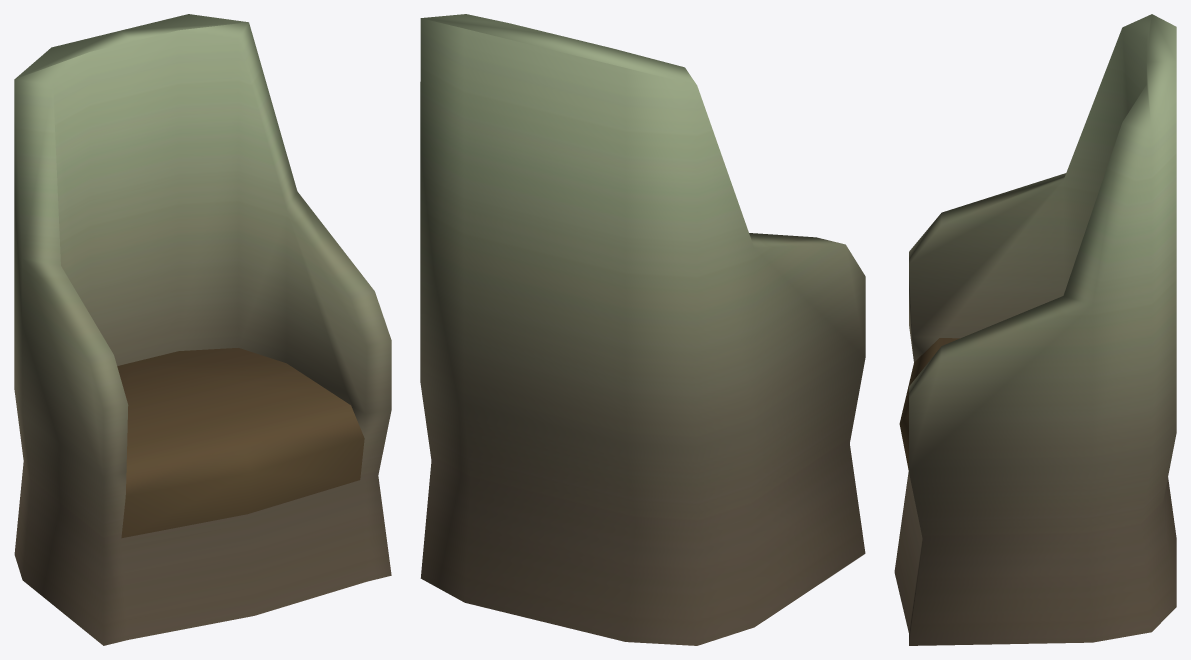
Rendered from DiningChair_2.fbx.
3 renders of one model, left to right at view 1: azimuth 30°, elevation 25°; view 2: azimuth 150°, elevation 25°; view 3: azimuth 270°, elevation 25°, orthographic. The views are drawn at different scales.
Visible parts, largest first — view 1: Cube; view 2: Cube; view 3: Cube.
Boxes of the visible parts, left/top/right/bottom form: Cube: left=14, top=14, right=391, bottom=645; Cube: left=420, top=14, right=865, bottom=645; Cube: left=894, top=14, right=1176, bottom=645.
Bounding box in the file's own units: 218 × 352 × 176.
